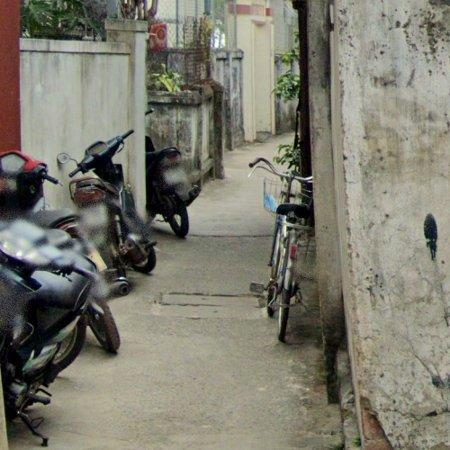motorcycles: (0, 151, 119, 446), (69, 130, 156, 276)
